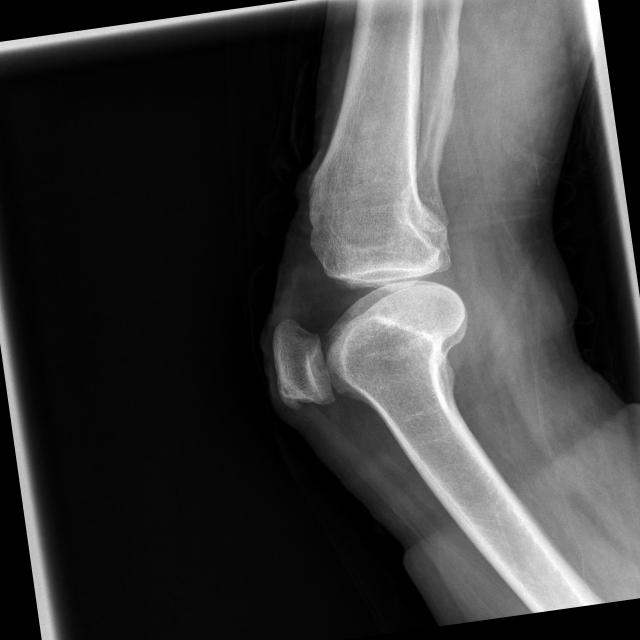Knee: (256, 202, 494, 417)
